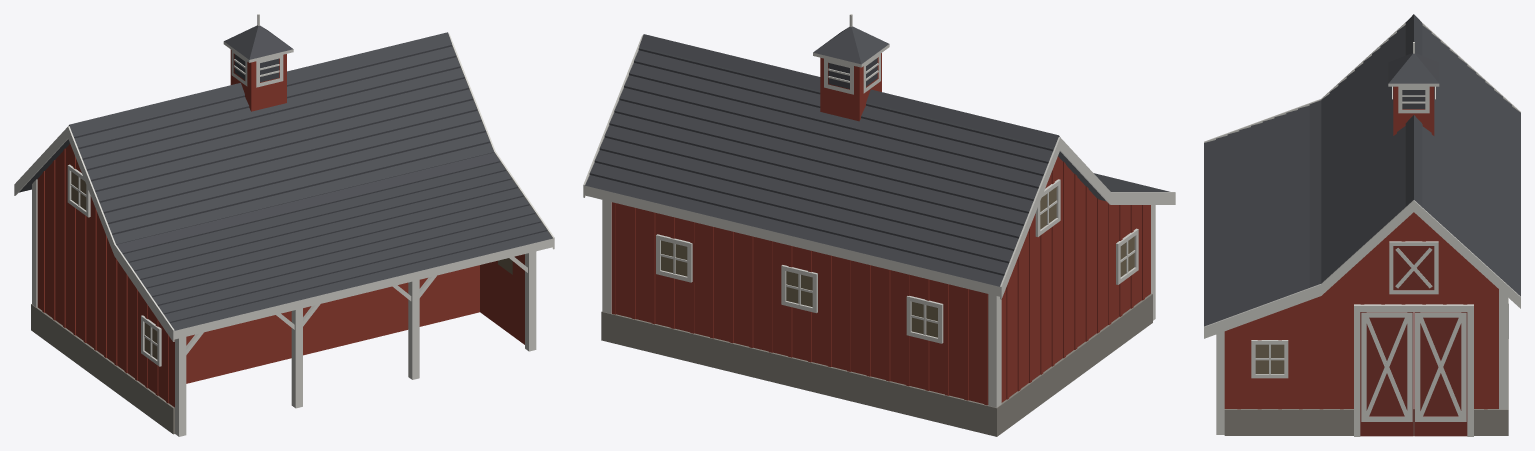
The model's file is barn_red_b.glb.
3 renders of one model, left to right at view 1: azimuth 30°, elevation 25°; view 2: azimuth 150°, elevation 25°; view 3: azimuth 270°, elevation 25°, orthographic. The views are drawn at different scales.
Parts seen in each view (by area): view 1: barn_red_b_lod0; view 2: barn_red_b_lod0; view 3: barn_red_b_lod0.
Boxes of the visible parts, x1,y1,x2,y2 form: barn_red_b_lod0: (14, 14, 554, 436); barn_red_b_lod0: (583, 14, 1175, 436); barn_red_b_lod0: (1204, 14, 1520, 436).
Size of what is drawn, in the model's own units: 10.68 by 8.2 by 7.7.
